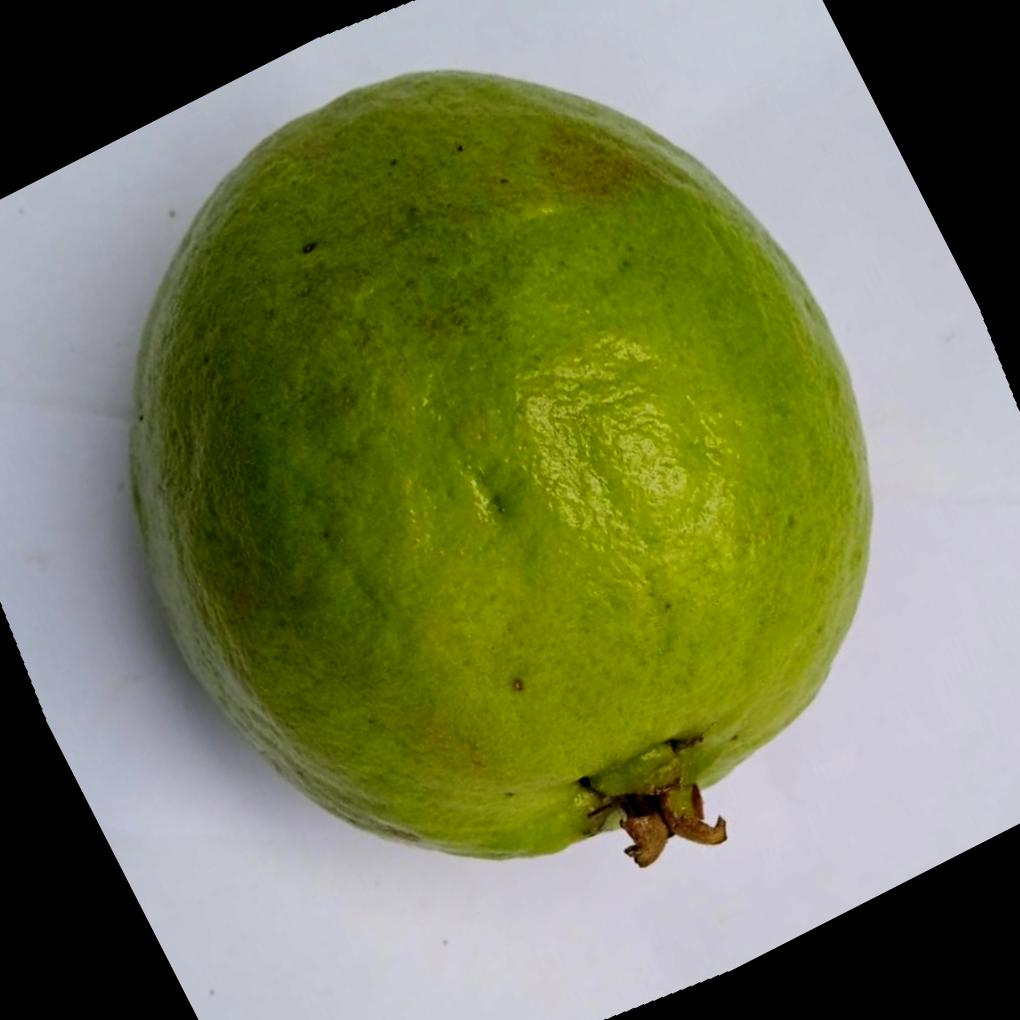FreshGuava: (124, 62, 873, 863)
